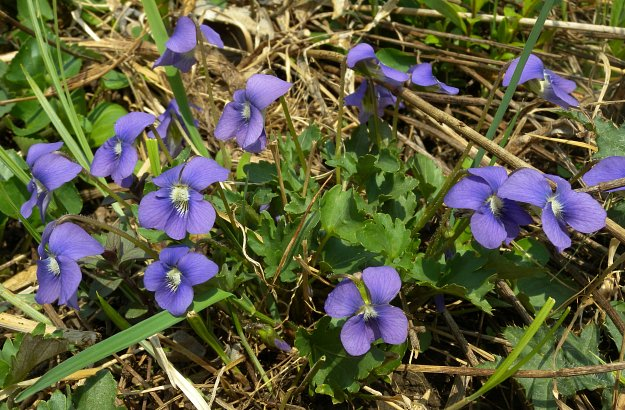violet: (437, 156, 532, 258), (507, 153, 610, 246), (326, 258, 409, 356), (134, 155, 224, 235), (213, 70, 291, 157), (31, 224, 103, 304), (498, 50, 581, 114), (139, 245, 212, 310), (155, 12, 224, 76), (18, 141, 78, 212), (95, 120, 148, 184)
